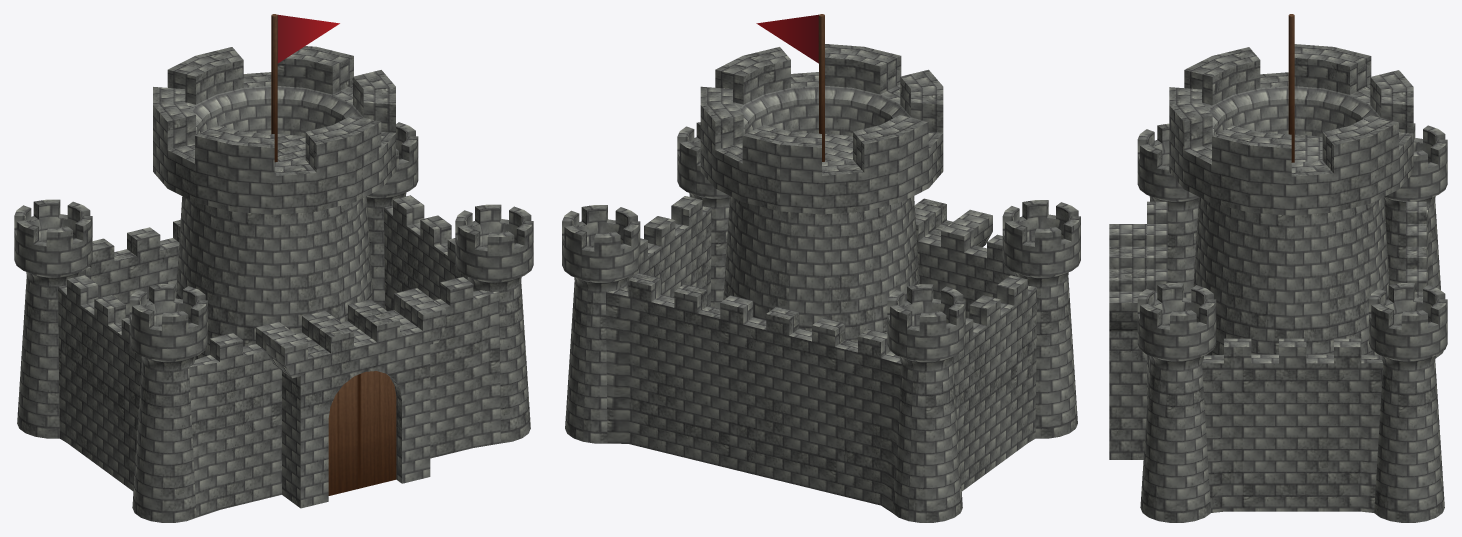
The model's file is Castle_red.fbx.
3 views of the same model, side by side, from view 1: azimuth 30°, elevation 25°; view 2: azimuth 150°, elevation 25°; view 3: azimuth 270°, elevation 25° (orthographic).
Visible parts, largest first — view 1: Pillar_Big, Wall_1, Gate, Pillar_1, Wall_3, Pillar_2, Pillar_3, Gate_Door, Wall_4, Wall_2, Pillar_4, Flag (+1 smaller); view 2: Pillar_Big, Wall_2, Pillar_2, Wall_3, Pillar_4, Pillar_1, Wall_4, Wall_1, Pillar_3, Gate, Flag, Flag_Stick; view 3: Pillar_Big, Wall_4, Pillar_3, Pillar_4, Gate, Pillar_1, Pillar_2, Wall_2, Wall_1, Flag_Stick.
Part boxes in pixels (box(x1,y1,x2,y2)): Pillar_Big: box(153, 46, 395, 359); Wall_1: box(189, 277, 500, 517); Gate: box(266, 295, 445, 508); Pillar_1: box(129, 284, 207, 522); Wall_3: box(58, 275, 141, 491); Pillar_2: box(14, 199, 92, 438); Pillar_3: box(455, 204, 533, 443); Gate_Door: box(328, 371, 396, 495); Wall_4: box(384, 195, 467, 311); Wall_2: box(80, 220, 180, 317); Pillar_4: box(367, 122, 418, 308); Flag: box(277, 14, 339, 63); Pillar_Big: box(700, 44, 943, 342); Wall_2: box(606, 273, 901, 512); Pillar_2: box(887, 284, 965, 522); Wall_3: box(953, 275, 1036, 491); Pillar_4: box(562, 205, 640, 443); Pillar_1: box(1002, 200, 1080, 438); Wall_4: box(628, 196, 711, 306); Wall_1: box(915, 214, 1014, 318); Pillar_3: box(677, 122, 729, 308); Gate: box(914, 198, 992, 247); Flag: box(756, 14, 818, 63); Flag_Stick: box(819, 14, 824, 161); Pillar_Big: box(1169, 44, 1413, 355); Wall_4: box(1202, 338, 1383, 512); Pillar_3: box(1137, 283, 1216, 522); Pillar_4: box(1369, 283, 1447, 522); Gate: box(1109, 224, 1146, 459); Pillar_1: box(1137, 123, 1198, 298); Pillar_2: box(1384, 123, 1447, 357); Wall_2: box(1406, 201, 1436, 358); Wall_1: box(1147, 201, 1167, 403); Flag_Stick: box(1288, 14, 1294, 162).
Size of the model in its own units: 15 by 15 by 11.15.
1 material, 1 textured.
